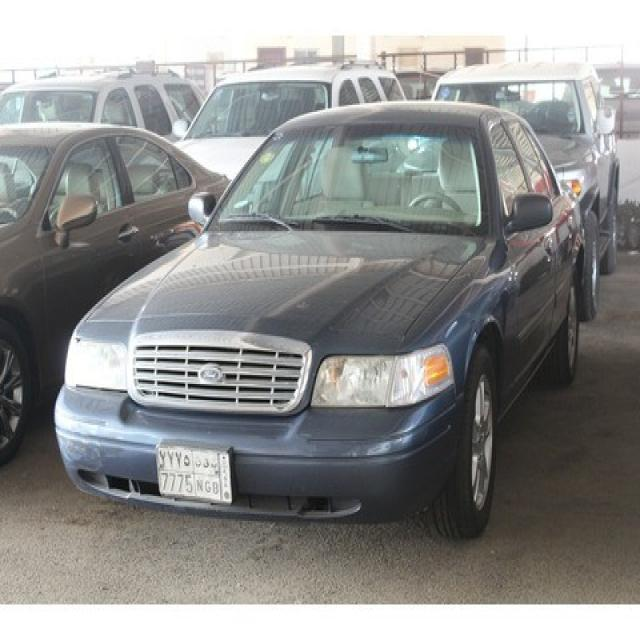license_plate: (154, 444, 234, 505)
